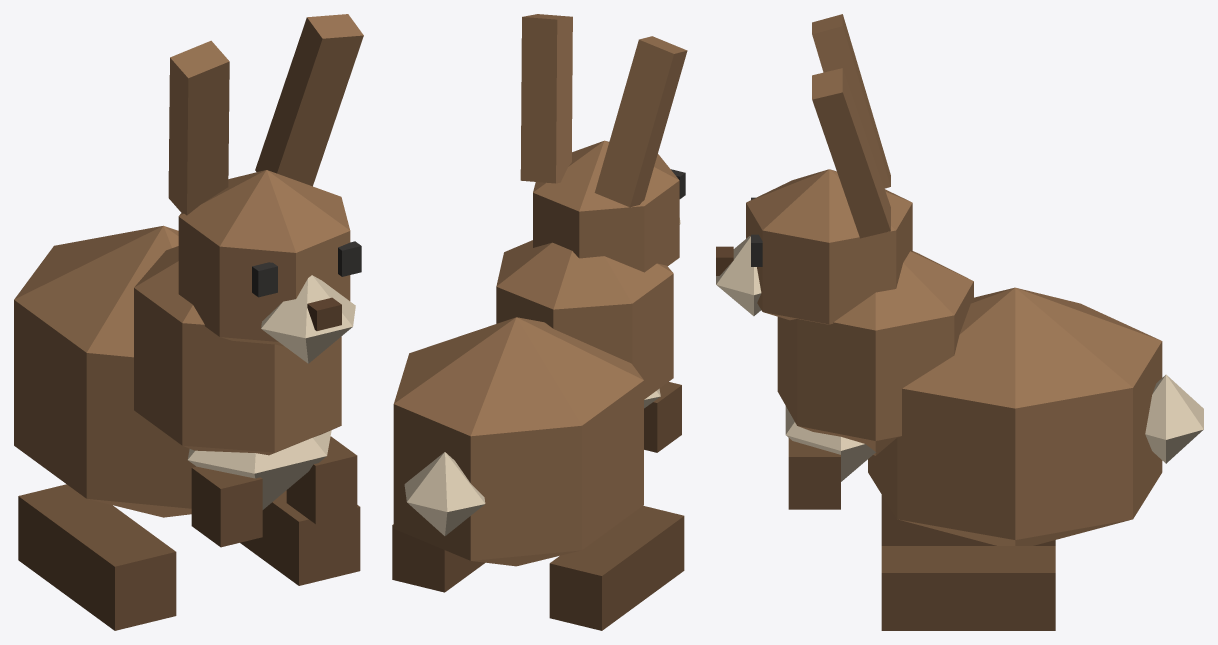
File: rabbit.glb
3 views of the same model, side by side, from view 1: azimuth 30°, elevation 25°; view 2: azimuth 150°, elevation 25°; view 3: azimuth 270°, elevation 25° (orthographic). The views are drawn at different scales.
Parts seen in each view (by area): view 1: Rabbit; view 2: Rabbit; view 3: Rabbit.
Boxes of the visible parts, left/top/right/bottom form: Rabbit: left=14, top=14, right=363, bottom=630; Rabbit: left=392, top=14, right=687, bottom=630; Rabbit: left=716, top=14, right=1203, bottom=630.
Size of the model in its own units: 0.1857 by 0.42 by 0.3503.
